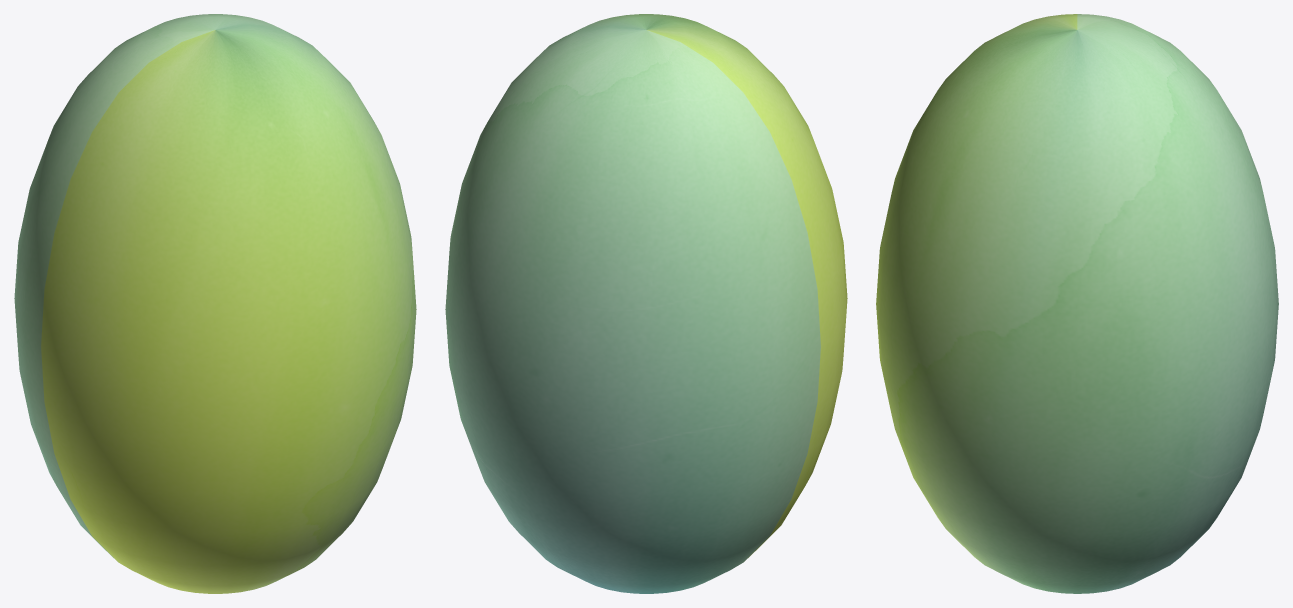
Rendered from ball_frame5.obj.
The picture shows the model from 3 angles, left to right: view 1: azimuth 30°, elevation 25°; view 2: azimuth 150°, elevation 25°; view 3: azimuth 270°, elevation 25°; orthographic projection.
Parts seen in each view (by area): view 1: Sphere; view 2: Sphere; view 3: Sphere.
Part boxes in pixels (<box>): Sphere: <box>14,14,416,593</box>; Sphere: <box>445,14,847,593</box>; Sphere: <box>876,14,1278,593</box>.
Bounding box in the file's own units: 2 × 3 × 2.
